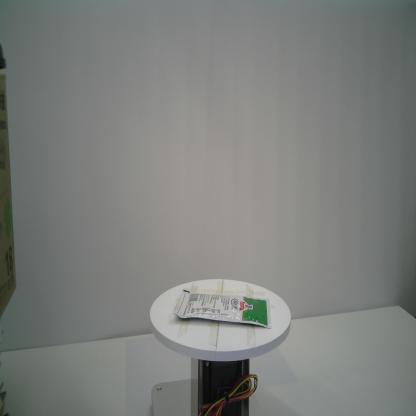Seasoner: (171, 286, 273, 329)
